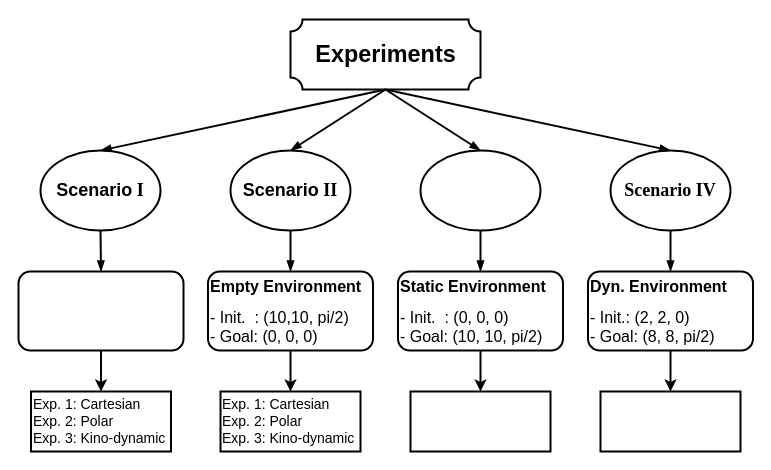
The diagram is 771 pixels wide and 470 high, and some of its shapes have lost their labels. Each missing label, with the centre of its shape:
"Empty Environment - Init. : (0, 0, 0) - Goal: (10, 10, pi/2)" goes at (100,310).
"Exp. 1: Kino-dynamic" goes at (480,421).
"Exp. 1: Kino-dynamic Exp. 2: Switching" goes at (670,421).
"Scenario III" goes at (480,190).
